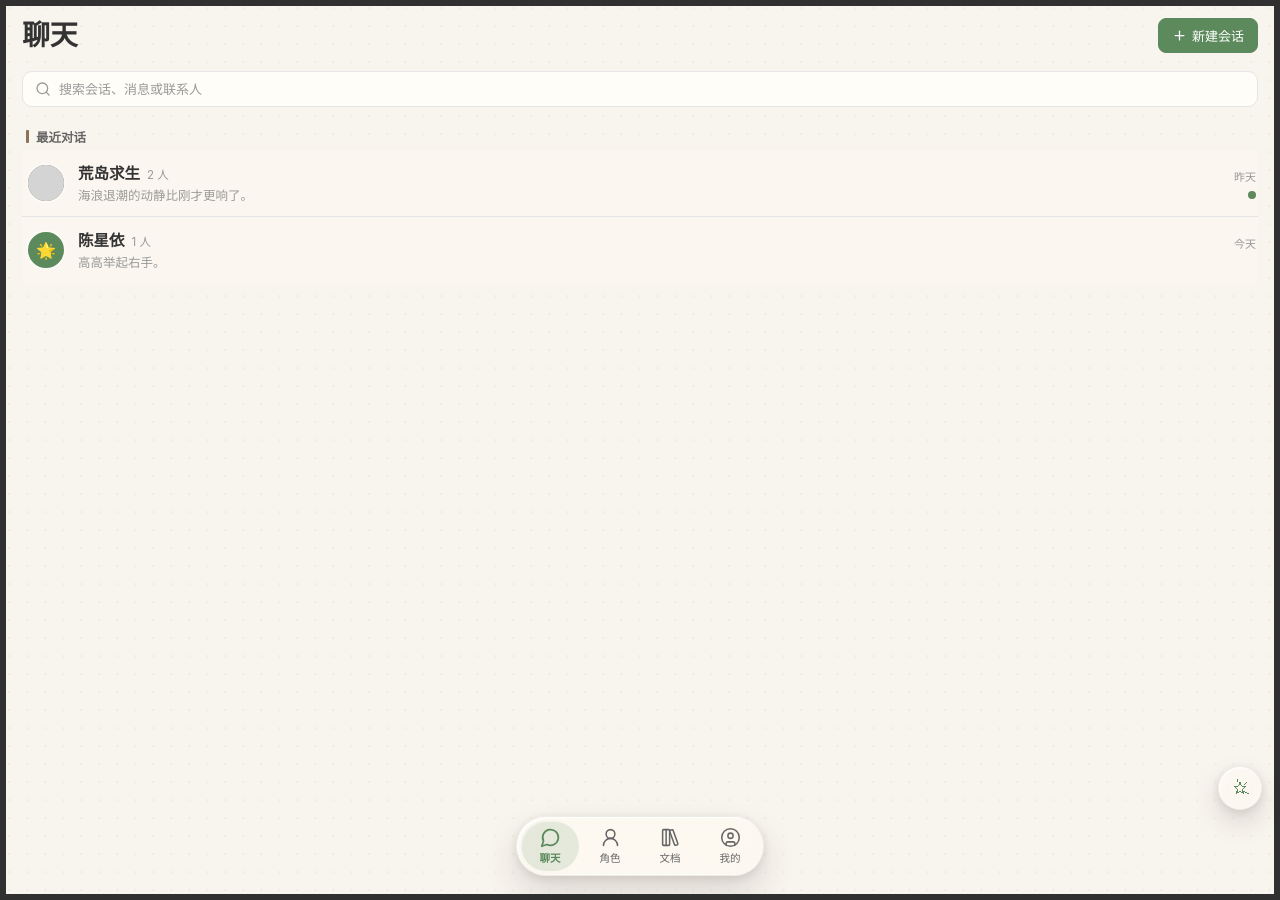
Test: MobileWorkspaceShell › mounts the director stream band in the top tidiao dock on mobile
The width and height of the screenshot is (1280, 900).
Click the button with class "mobile-flow-row" showing "荒岛求生 2 人 海浪退潮的动静比刚才更响了。 昨天": [46, 183] box [22,150,1260,217]
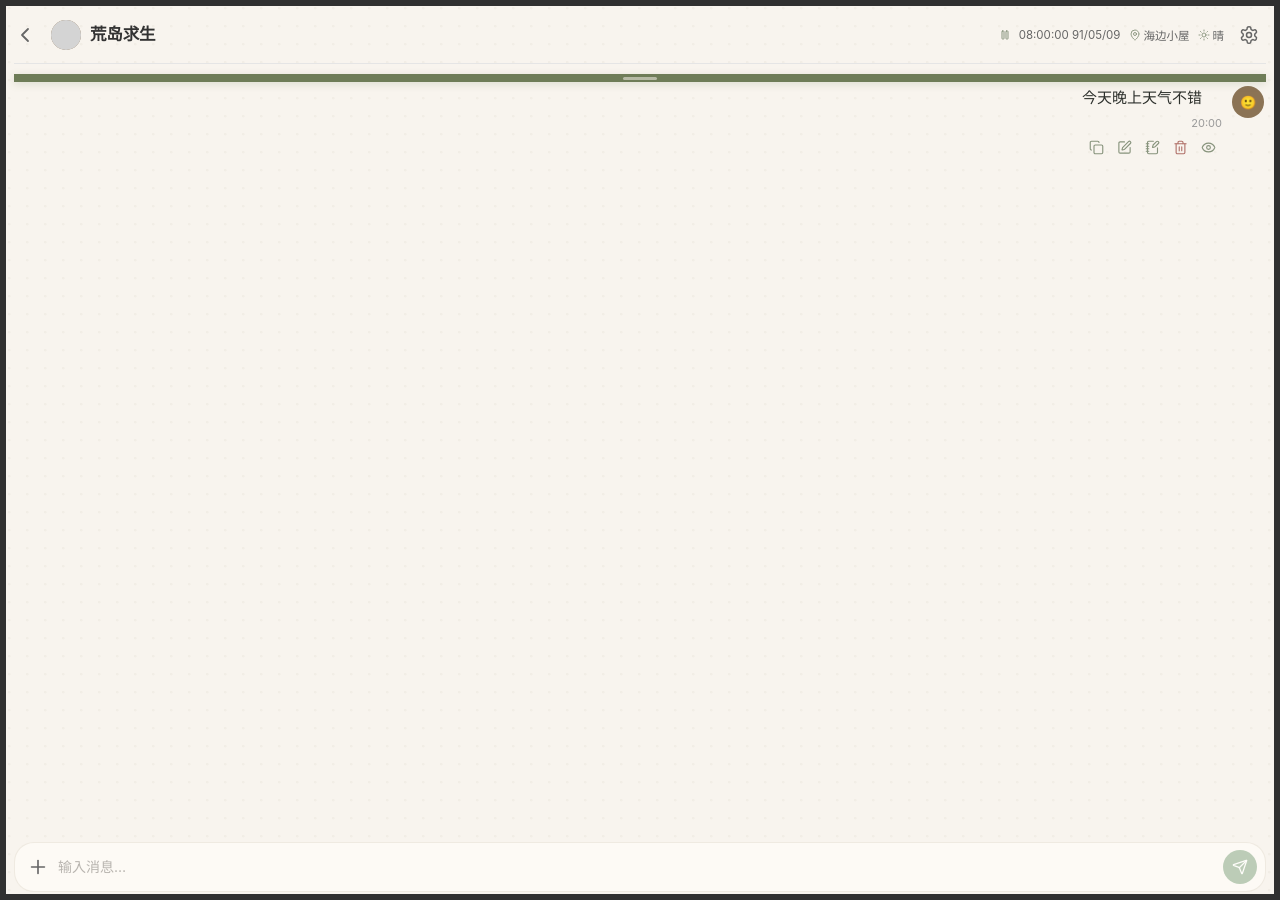
Click the button with class "tds-dock__bar": [640, 78] box [14,74,1266,82]
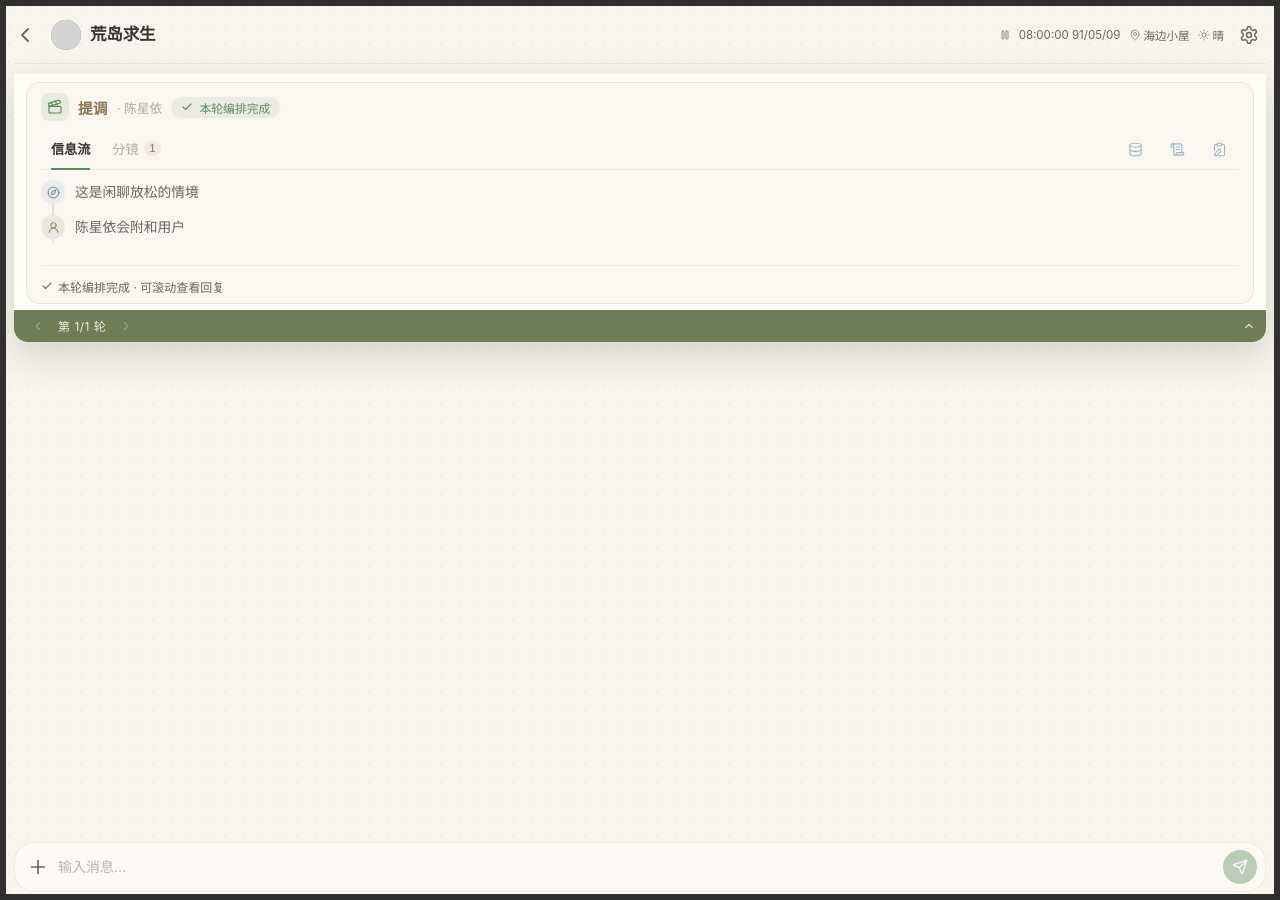
expect the element with class "tds--compact" is shown: met, box [26,82,1254,304]
expect the element with class "tds-tabs" is shown: met, box [41,129,1239,170]
expect the element with class "chat-director-band" shows "这是闲聊放松的情境": met, box [75,184,199,200]
